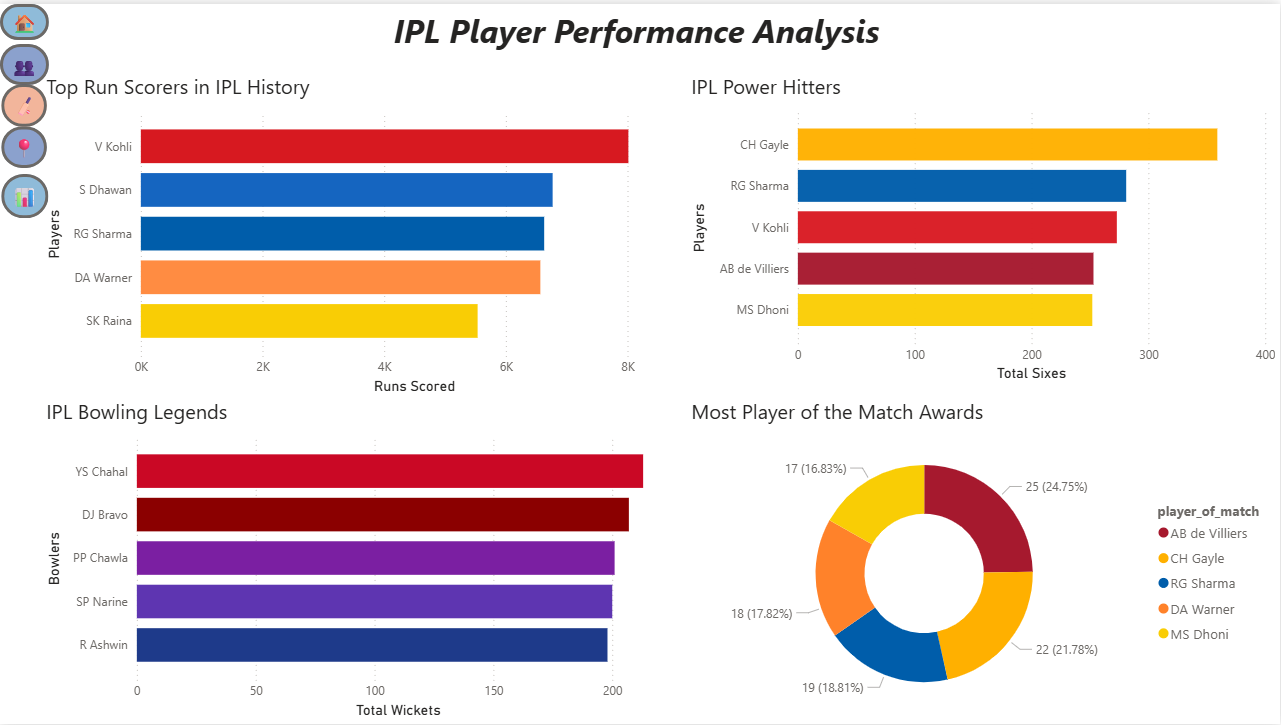

This screenshot's page, from the dashboard's own definition file:
{"tool":"powerbi","page":{"name":"Player Analysis 🏏","canvas":[1280,720],"ordinal":2},"visuals":[{"type":"barChart","title":"Top Run Scorers in IPL History","fields":{"Category":["Merged Dataset.deliveries.batter"],"Y":["Sum(Merged Dataset.deliveries.batsman_runs)"]},"box":[40.7,68.6,659.3,326.7],"z":0},{"type":"barChart","title":"IPL Bowling Legends","fields":{"Category":["Merged Dataset.deliveries.bowler"],"Y":["Sum(Mixed dataset.deliveries.is_wicket)"]},"box":[40.7,394.2,633.7,325.6],"z":1000},{"type":"barChart","title":"IPL Power Hitters","fields":{"Y":["CountNonNull(Merged Dataset.deliveries.batsman_runs)"],"Category":["Merged Dataset.deliveries.batter"]},"box":[686,68.6,594.2,314],"z":2000},{"type":"donutChart","title":"Most Player of the Match Awards","fields":{"Y":["Count(Merged Dataset.Match_id)"],"Category":["Merged Dataset.player_of_match"]},"box":[686,394.2,594.2,325.6],"z":3000},{"type":"textbox","box":[388.4,0,577.9,68.6],"z":4000},{"type":"actionButton","title":"Home","box":[0,0,49,36],"z":5000,"group":"g1"},{"type":"actionButton","title":"Home","box":[0.8,170,47.1,44.3],"z":6000,"group":"g1"},{"type":"group","id":"g1","title":"Group 1","box":[0,0,49,214.3],"z":7000},{"type":"actionButton","title":"Home","box":[1.5,122.9,45.7,41.4],"z":7000,"group":"g1"},{"type":"actionButton","title":"Home","box":[1.5,80,45.7,42.9],"z":8000,"group":"g1"},{"type":"actionButton","title":"Home","box":[0,40.5,49,41],"z":10000,"group":"g1"}]}

Visuals, with their boxes on the page's 1280x720 design canvas (x1, y1, x2, y2). These are canvas units, not pixel positions in the 1281x725 screenshot, which may show the page scaled, cropped or inside an application window:
"Top Run Scorers in IPL History" barChart: (41, 69, 700, 395)
"IPL Bowling Legends" barChart: (41, 394, 674, 720)
"IPL Power Hitters" barChart: (686, 69, 1280, 383)
"Most Player of the Match Awards" donutChart: (686, 394, 1280, 720)
textbox: (388, 0, 966, 69)
"Home" actionButton: (0, 0, 49, 36)
"Home" actionButton: (1, 170, 48, 214)
"Group 1" group: (0, 0, 49, 214)
"Home" actionButton: (2, 123, 47, 164)
"Home" actionButton: (2, 80, 47, 123)
"Home" actionButton: (0, 40, 49, 82)
